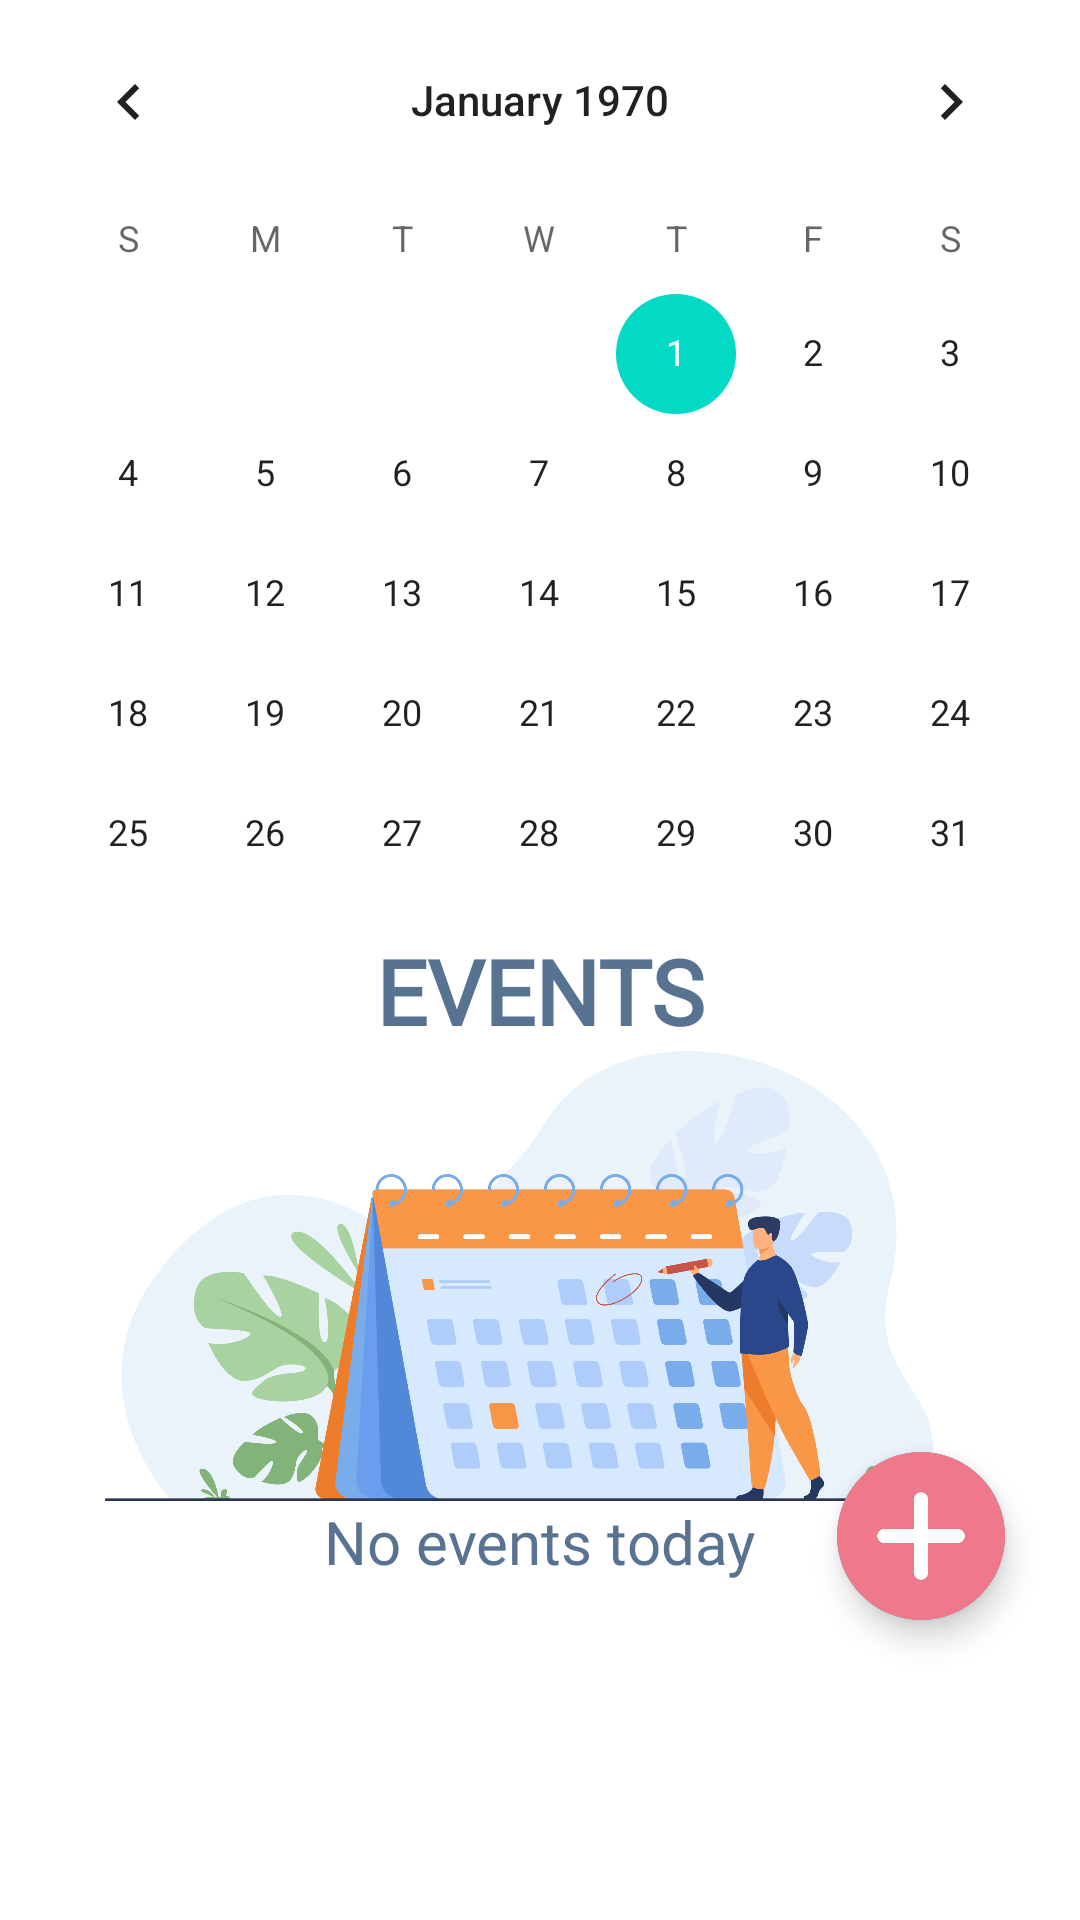

Icons on this 1080px×1920px Android screen, each with its box as box=[x1, y1, x2, y2]:
plus: box=[837, 1452, 1005, 1620]
